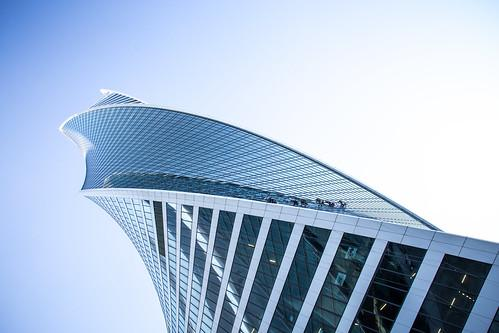building: (53, 85, 499, 333)
